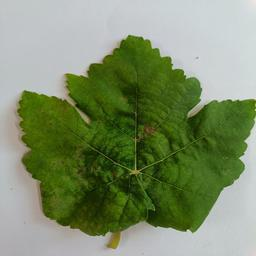Powdery-Mildew: (58, 148, 89, 184)
